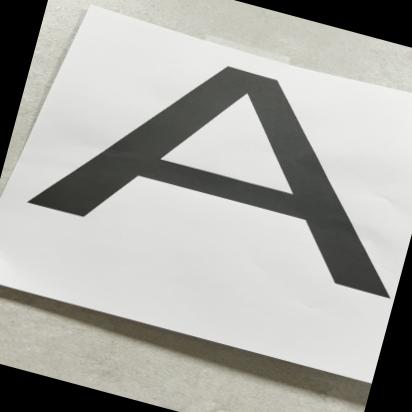seat: (36, 27, 412, 335)
